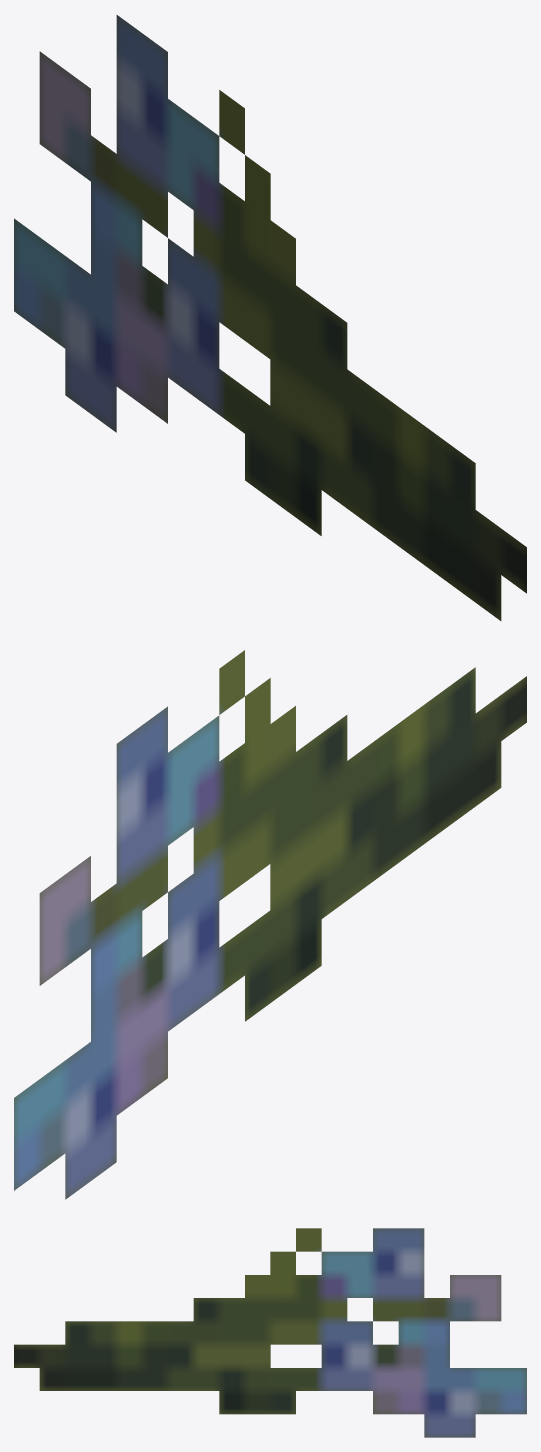
File: ObjMD_Cemetery_Flower_D.FBX
3 renders of one model, top to bottom at view 1: azimuth 30°, elevation 25°; view 2: azimuth 150°, elevation 25°; view 3: azimuth 270°, elevation 25°, orthographic. The views are drawn at different scales.
Visible parts, largest first — view 1: ObjMD_Cemetery_Flower_D; view 2: ObjMD_Cemetery_Flower_D; view 3: ObjMD_Cemetery_Flower_D.
Boxes of the visible parts, bbox=[...] form: ObjMD_Cemetery_Flower_D: bbox=[14, 15, 526, 620]; ObjMD_Cemetery_Flower_D: bbox=[14, 650, 526, 1199]; ObjMD_Cemetery_Flower_D: bbox=[14, 1228, 526, 1437].
Bounding box in the file's own units: 7.01e-14 × 56.25 × 125.
